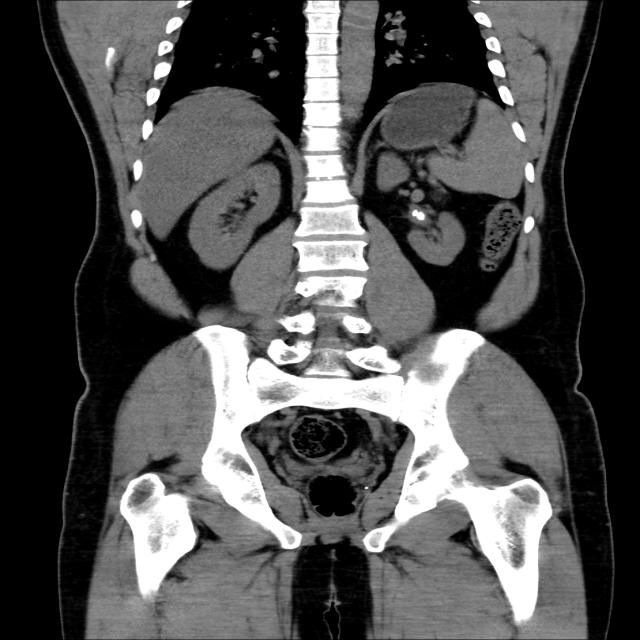kidneystone: (408, 209, 428, 221)
